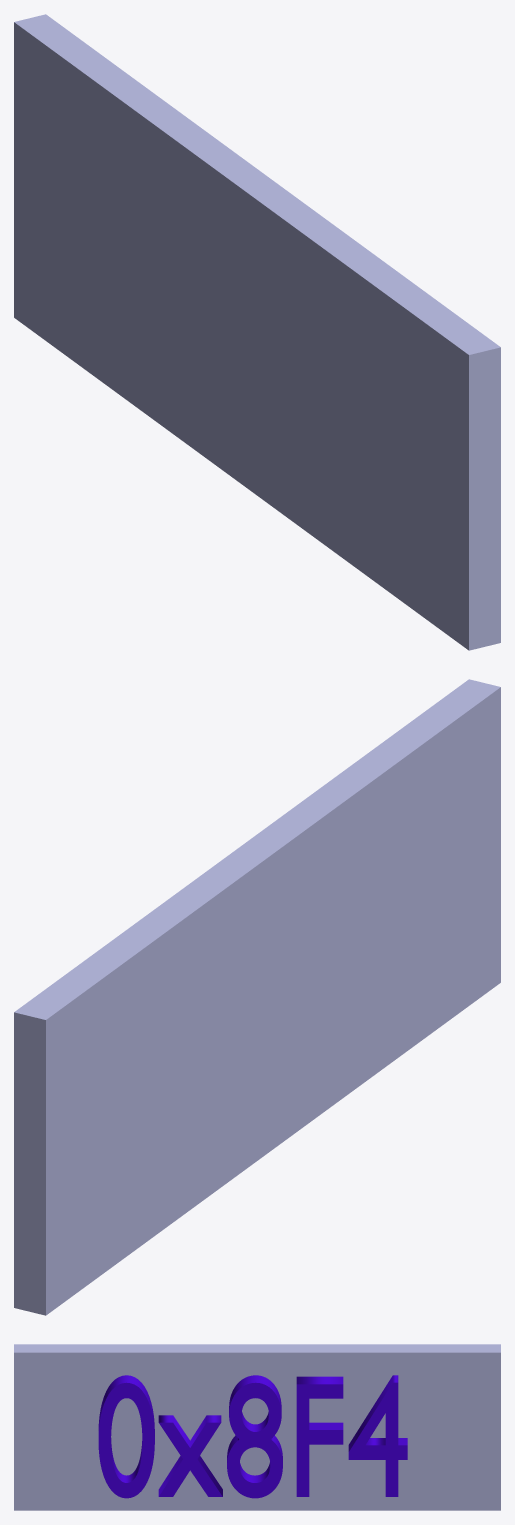
The picture shows the model from 3 angles, top to bottom: view 1: azimuth 30°, elevation 25°; view 2: azimuth 150°, elevation 25°; view 3: azimuth 270°, elevation 25°; orthographic projection. The views are drawn at different scales.
Visible parts, largest first — view 1: Cube; view 2: Cube; view 3: Cube, Text.
Part boxes in pixels (x1,y1,x2,y2): Cube: [14, 14, 500, 650]; Cube: [14, 679, 500, 1315]; Cube: [14, 1344, 500, 1510]; Text: [98, 1375, 407, 1498].
Size of the model in its own units: 2.65 by 12.33 by 34.39.
